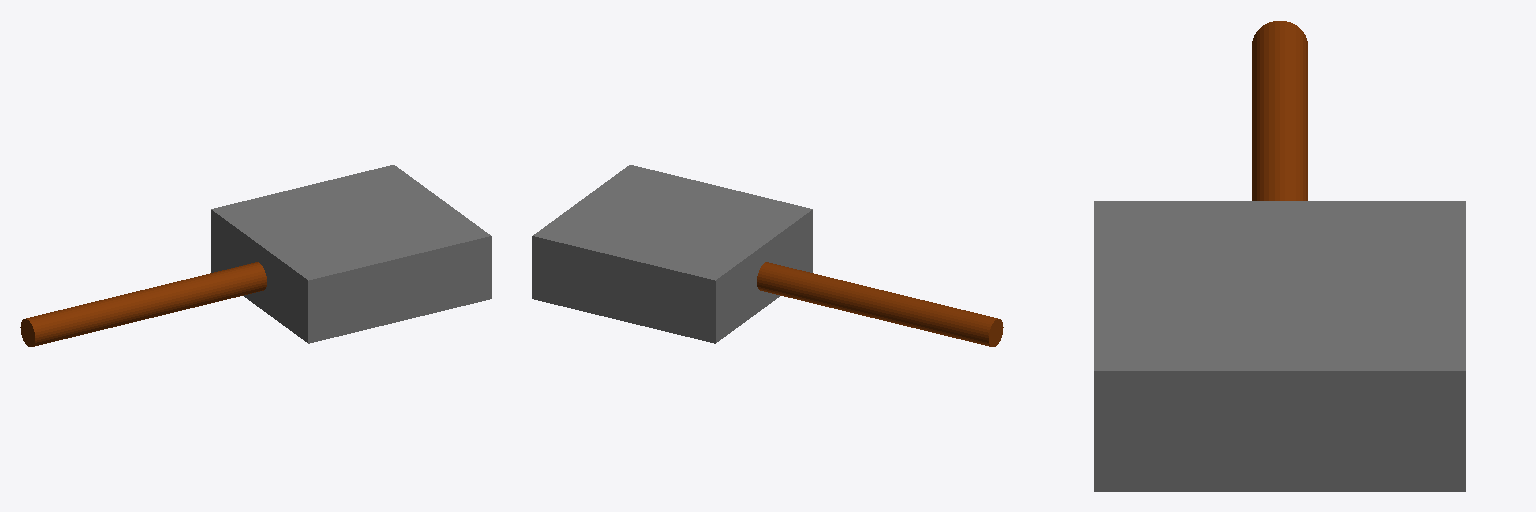
The robot description file, URDF, robot "handle_head":
<?xml version="1.0"?>
<robot name="handle_head">

  <link name="handle_head">
    <!-- Handle -->
    <visual>
              <origin xyz="0 0 0" rpy="0 -1.5707963267948966 0"/>
        <geometry>
          <cylinder length="0.13526639073145624" radius="0.007445620765922168"/>
        </geometry>
        
      <material name="brown">
        <color rgba="0.55 0.27 0.07 1.0"/>
      </material>
    </visual>
    <collision>
              <origin xyz="0 0 0" rpy="0 -1.5707963267948966 0"/>
        <geometry>
          <cylinder length="0.13526639073145624" radius="0.007445620765922168"/>
        </geometry>
        
    </collision>

    <!-- Head -->
    <visual>
              <origin xyz="0.12102743839281781 0 0" rpy="0 0 0"/>
        <geometry>
          <box size="0.10678848605417937 0.098562315677858 0.035257418660240895"/>
        </geometry>
        
      <material name="gray">
        <color rgba="0.5 0.5 0.5 1.0"/>
      </material>
    </visual>
    <collision>
              <origin xyz="0.12102743839281781 0 0" rpy="0 0 0"/>
        <geometry>
          <box size="0.10678848605417937 0.098562315677858 0.035257418660240895"/>
        </geometry>
        
    </collision>

    <inertial>
      <origin xyz="0.1137980145437956 0 0" rpy="0 0 0"/>
      <mass value="0.195081060952586"/>
      <inertia ixx="0.00016781317038519898" iyy="0.0003744745117356247" izz="0.0005039662844722875" ixy="0" ixz="0" iyz="0"/>
    </inertial>
  </link>

</robot>

--- What the picture shows (computed from the rendered views, not written in the file) ---
The picture shows the robot from 3 angles, left to right: view 1: azimuth 30°, elevation 25°; view 2: azimuth 150°, elevation 25°; view 3: azimuth 270°, elevation 25°; orthographic projection.
Robot: handle_head — 1 links, 0 joints (none); root link handle_head; default pose: all joints at 0.
Links seen in each view (by area): view 1: handle_head; view 2: handle_head; view 3: handle_head.
Boxes of the visible links, left/top/right/bottom form: handle_head: left=20, top=165, right=491, bottom=346; handle_head: left=532, top=165, right=1003, bottom=346; handle_head: left=1094, top=21, right=1465, bottom=491.
Bounding box of the posed robot: 0.2421 × 0.0986 × 0.0353 m (x, y, z).
Geometry: primitives only (box / cylinder / sphere), no mesh files.
